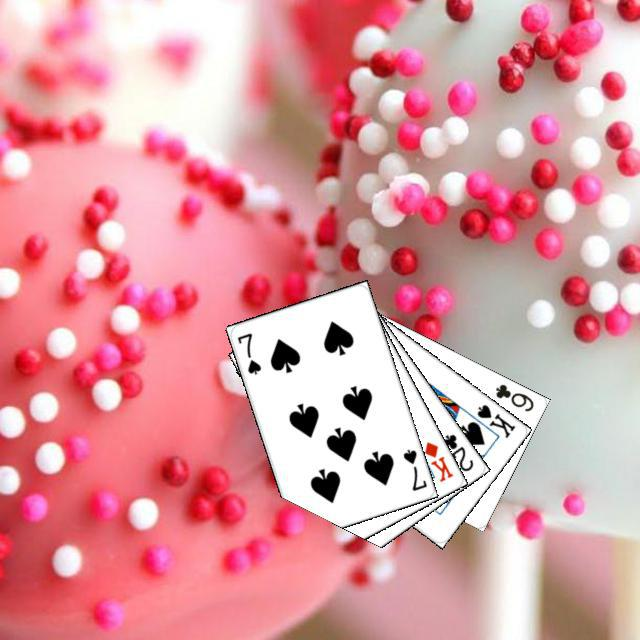2c: (437, 429, 475, 473)
6c: (490, 379, 535, 413)
7s: (232, 328, 263, 376), (398, 444, 428, 492)
Kd: (419, 437, 455, 484)
Ks: (472, 399, 517, 440)
